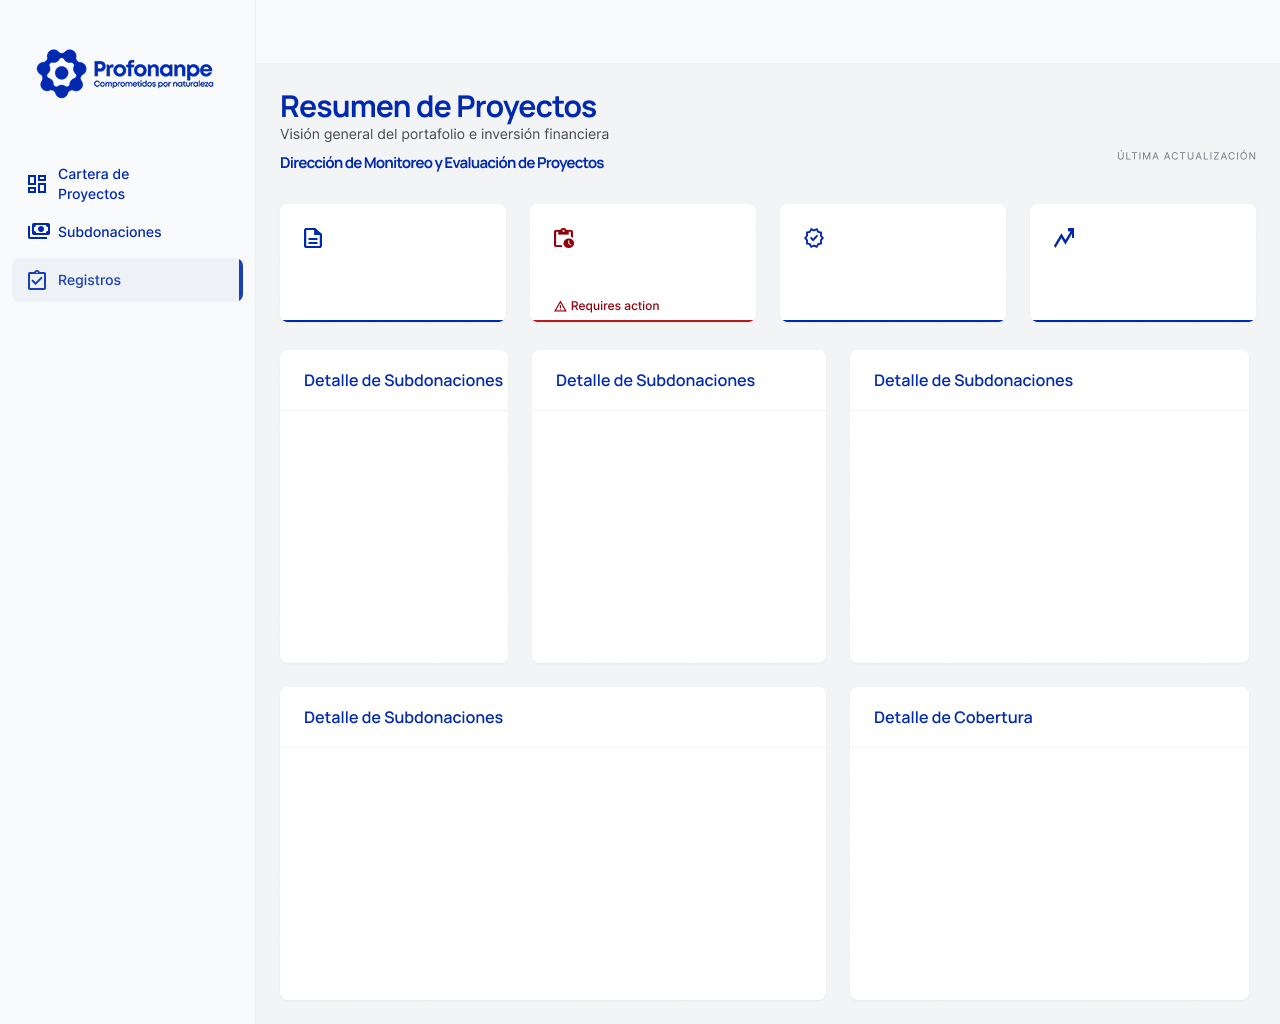

The dashboard page shown, as its layout file describes it:
{"tool":"powerbi","page":{"name":"Registros","canvas":[1280,1024],"ordinal":5},"visuals":[{"type":"textSlicer","fields":{"Values":["Fact_Proyectos.Nombre corto"]},"box":[252.9,12.9,291.4,48.6],"z":0},{"type":"cardVisual","fields":{"Data":["_Measure.Fecha Actualizacion"]},"box":[1050,141.4,212.9,64.3],"z":1000},{"type":"pageNavigator","box":[11.9,161.2,228.1,43.8],"z":2000},{"type":"card","fields":{"Values":["_Measure.Proyectos con Subdonaciones"]},"box":[274.3,205.7,235.7,108.6],"z":6000},{"type":"card","fields":{"Values":["_Measure.Subdonaciones"]},"box":[524.3,205.7,235.7,108.6],"z":7000},{"type":"card","fields":{"Values":["_Measure.Monto Soles"]},"box":[775.7,205.7,238.6,108.6],"z":10000},{"type":"card","fields":{"Values":["_Measure.DIME SUB"]},"box":[1029.5,202.5,233.4,108.1],"z":11000},{"type":"pageNavigator","box":[12,205.9,228.2,42.9],"z":12000},{"type":"listSlicer","fields":{"Values":["Dim_LineaNegocio.Línea de Negocio"]},"box":[12,344.6,253.9,161.3],"z":13000},{"type":"listSlicer","fields":{"Values":["Dim_EjeTematico.Eje Temático"]},"box":[10.7,524.9,253.9,147.6],"z":14000},{"type":"listSlicer","fields":{"Values":["Dim_Subdonacion.Ámbito de intervención"]},"box":[12.4,693.1,253.9,87.5],"z":15000}]}

Visuals, with their boxes on the page's 1280x1024 design canvas (x1, y1, x2, y2). These are canvas units, not pixel positions in the 1280x1024 screenshot, which may show the page scaled, cropped or inside an application window:
textSlicer - Fact_Proyectos.Nombre corto: pyautogui.locateOnScreen(253, 13, 544, 62)
cardVisual - _Measure.Fecha Actualizacion: pyautogui.locateOnScreen(1050, 141, 1263, 206)
pageNavigator: pyautogui.locateOnScreen(12, 161, 240, 205)
card - _Measure.Proyectos con Subdonaciones: pyautogui.locateOnScreen(274, 206, 510, 314)
card - _Measure.Subdonaciones: pyautogui.locateOnScreen(524, 206, 760, 314)
card - _Measure.Monto Soles: pyautogui.locateOnScreen(776, 206, 1014, 314)
card - _Measure.DIME SUB: pyautogui.locateOnScreen(1030, 202, 1263, 311)
pageNavigator: pyautogui.locateOnScreen(12, 206, 240, 249)
listSlicer - Dim_LineaNegocio.Línea de Negocio: pyautogui.locateOnScreen(12, 345, 266, 506)
listSlicer - Dim_EjeTematico.Eje Temático: pyautogui.locateOnScreen(11, 525, 265, 672)
listSlicer - Dim_Subdonacion.Ámbito de intervención: pyautogui.locateOnScreen(12, 693, 266, 781)
